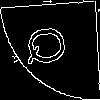Q: (24, 25, 74, 66)
